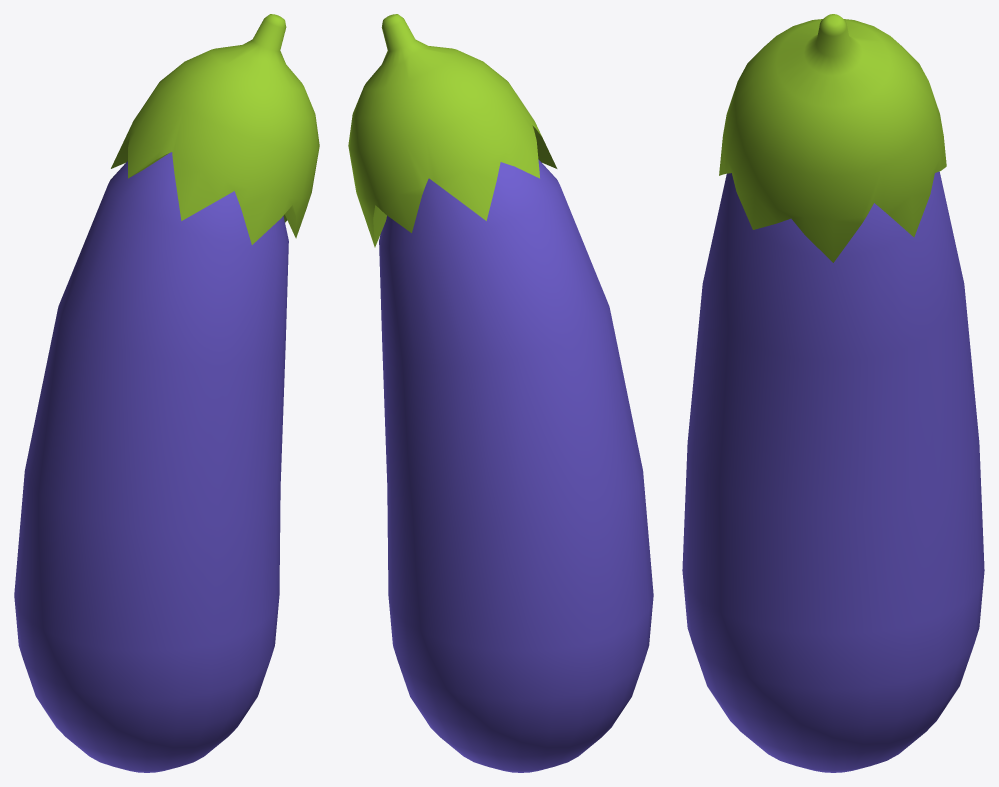
File: eggplant.obj
3 renders of one model, left to right at view 1: azimuth 30°, elevation 25°; view 2: azimuth 150°, elevation 25°; view 3: azimuth 270°, elevation 25°, orthographic. The views are drawn at different scales.
Parts seen in each view (by area): view 1: group_2_ID14, group_1_ID5; view 2: group_2_ID14, group_1_ID5; view 3: group_2_ID14, group_1_ID5.
Boxes of the visible parts, left/top/right/bottom form: group_2_ID14: left=14, top=152, right=288, bottom=772; group_1_ID5: left=111, top=14, right=319, bottom=244; group_2_ID14: left=379, top=159, right=653, bottom=772; group_1_ID5: left=348, top=14, right=557, bottom=247; group_2_ID14: left=682, top=171, right=984, bottom=772; group_1_ID5: left=719, top=14, right=946, bottom=262.
Size of the model in its own units: 0.5163 by 1.29 by 0.4311.
